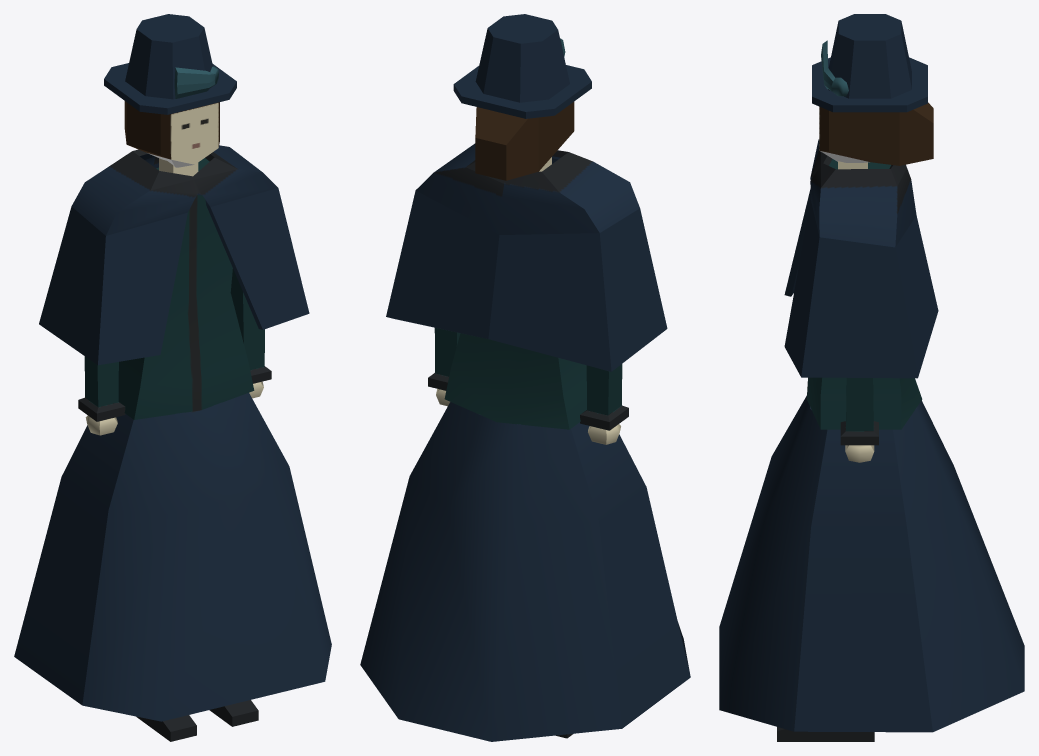
The model's file is char_peacock.fbx.
The picture shows the model from 3 angles, left to right: view 1: azimuth 30°, elevation 25°; view 2: azimuth 150°, elevation 25°; view 3: azimuth 270°, elevation 25°; orthographic projection. The views are drawn at different scales.
Visible parts, largest first — view 1: skirt, cape, MsPeacock, hat, head, fore_arm (×2), foot (×2), decor; view 2: skirt, cape, MsPeacock, hat, head, fore_arm (×2); view 3: skirt, cape, hat, head, MsPeacock, fore_arm, foot, decor.
Part boxes in pixels (bbox=[...]): skirt: bbox=[14, 393, 331, 721]; cape: bbox=[39, 145, 309, 365]; MsPeacock: bbox=[118, 158, 254, 419]; hat: bbox=[104, 14, 236, 114]; head: bbox=[124, 101, 219, 167]; fore_arm (×2): bbox=[78, 287, 271, 421]; foot (×2): bbox=[136, 700, 258, 741]; decor: bbox=[174, 66, 218, 98]; skirt: bbox=[360, 402, 690, 741]; cape: bbox=[386, 143, 667, 371]; MsPeacock: bbox=[444, 333, 586, 429]; hat: bbox=[453, 14, 591, 118]; head: bbox=[475, 102, 574, 180]; fore_arm (×2): bbox=[428, 327, 628, 430]; skirt: bbox=[719, 395, 1024, 732]; cape: bbox=[784, 139, 938, 378]; hat: bbox=[812, 14, 927, 112]; head: bbox=[819, 102, 933, 165]; MsPeacock: bbox=[806, 159, 922, 429]; fore_arm: bbox=[840, 378, 878, 445]; foot: bbox=[777, 727, 874, 741]; decor: bbox=[821, 40, 848, 96].
Size of the model in its own units: 0.8803 by 2.24 by 0.8939.
